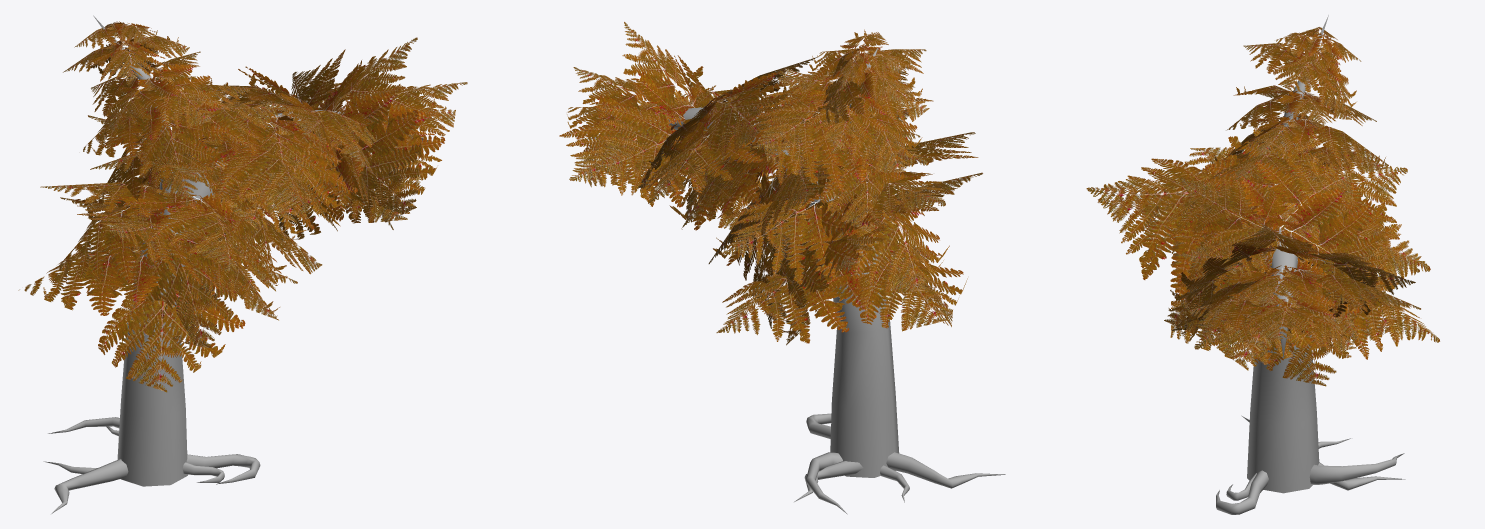
File: air_treeGeneric_03_mesh.fbx
3 renders of one model, left to right at view 1: azimuth 30°, elevation 25°; view 2: azimuth 150°, elevation 25°; view 3: azimuth 270°, elevation 25°, orthographic.
Parts seen in each view (by area): view 1: air_treeGeneric_03_mesh; view 2: air_treeGeneric_03_mesh; view 3: air_treeGeneric_03_mesh.
Part boxes in pixels (left/top/right/bottom): air_treeGeneric_03_mesh: left=18, top=15, right=467, bottom=513; air_treeGeneric_03_mesh: left=559, top=22, right=1005, bottom=514; air_treeGeneric_03_mesh: left=1086, top=15, right=1439, bottom=514.
Bounding box in the file's own units: 2404 × 2362 × 1934.
